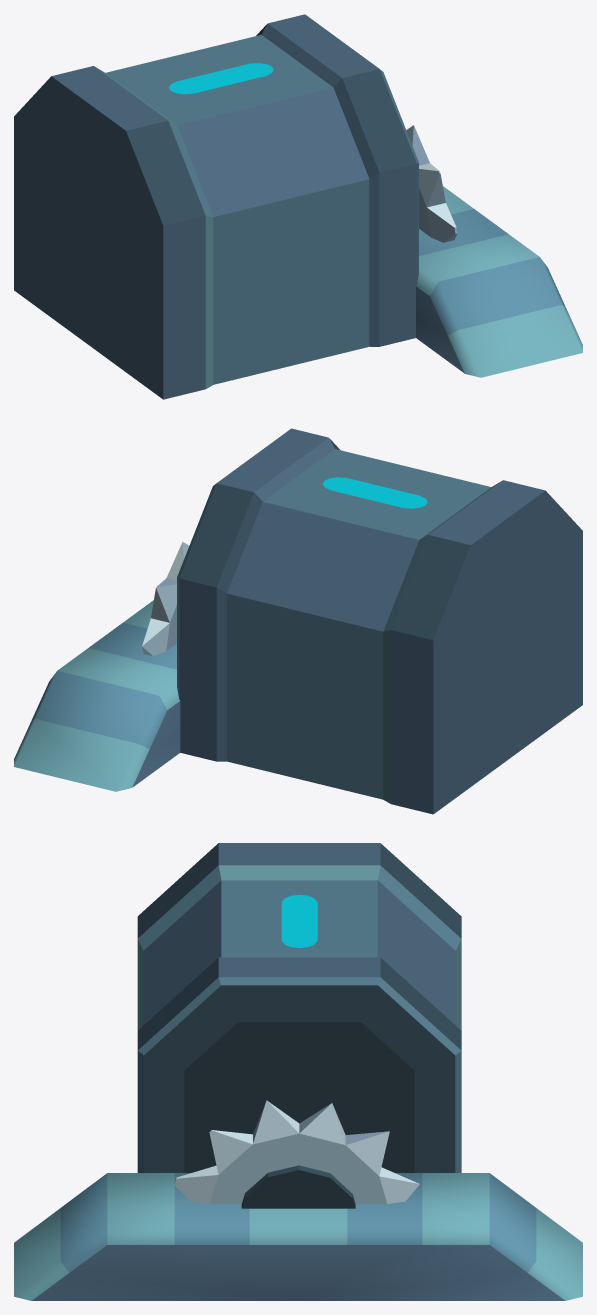
File: Buildings_10.fbx
The picture shows the model from 3 angles, top to bottom: view 1: azimuth 30°, elevation 25°; view 2: azimuth 150°, elevation 25°; view 3: azimuth 270°, elevation 25°; orthographic projection. The views are drawn at different scales.
Parts seen in each view (by area): view 1: Buildings.008; view 2: Buildings.008; view 3: Buildings.008.
Part boxes in pixels (bbox=[...]): Buildings.008: bbox=[14, 14, 582, 399]; Buildings.008: bbox=[14, 428, 582, 814]; Buildings.008: bbox=[14, 843, 582, 1300].
Bounding box in the file's own units: 368 × 451 × 229.
